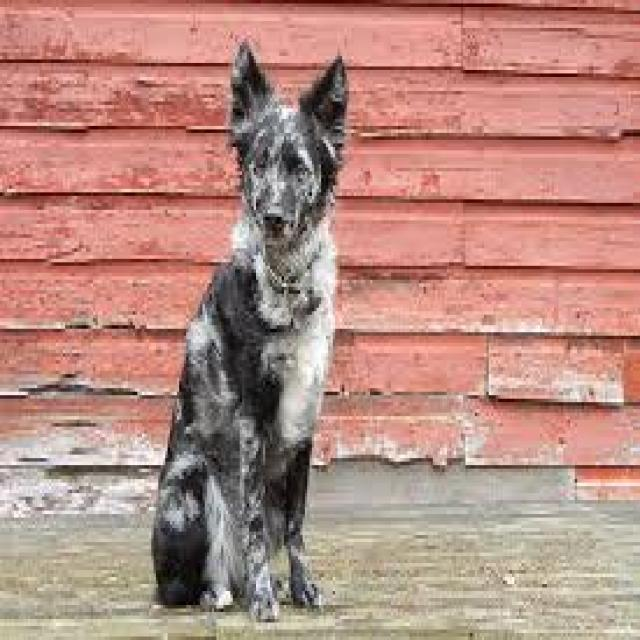Dog: (148, 35, 357, 626)
